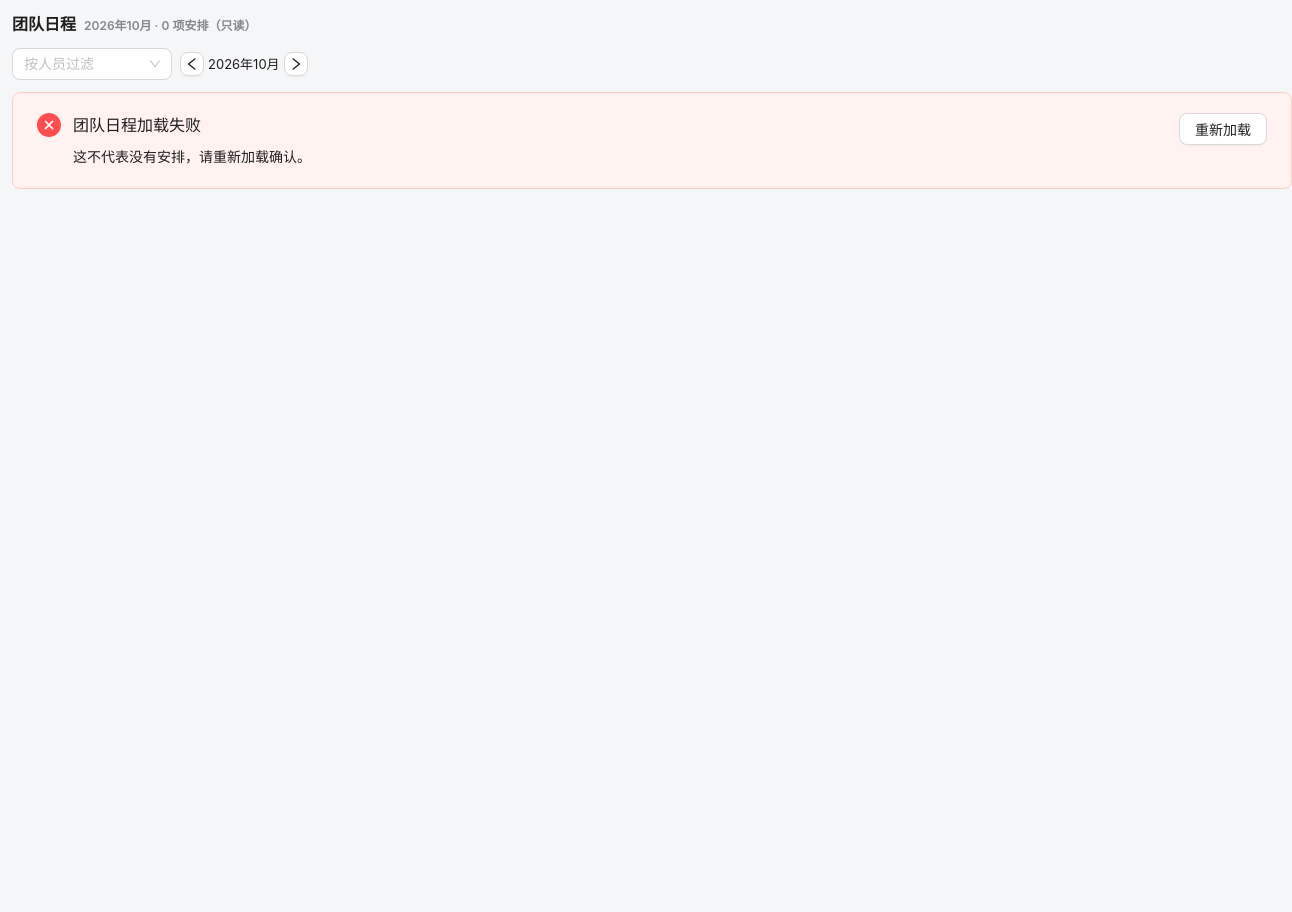
Test: shows a retryable failure instead of an empty schedule
The width and height of the screenshot is (1292, 912).
Check: the text "团队日程加载失败" is shown, box [73, 115, 201, 135]
Click the button "重新加载" at (1223, 129), box [1179, 113, 1267, 145]
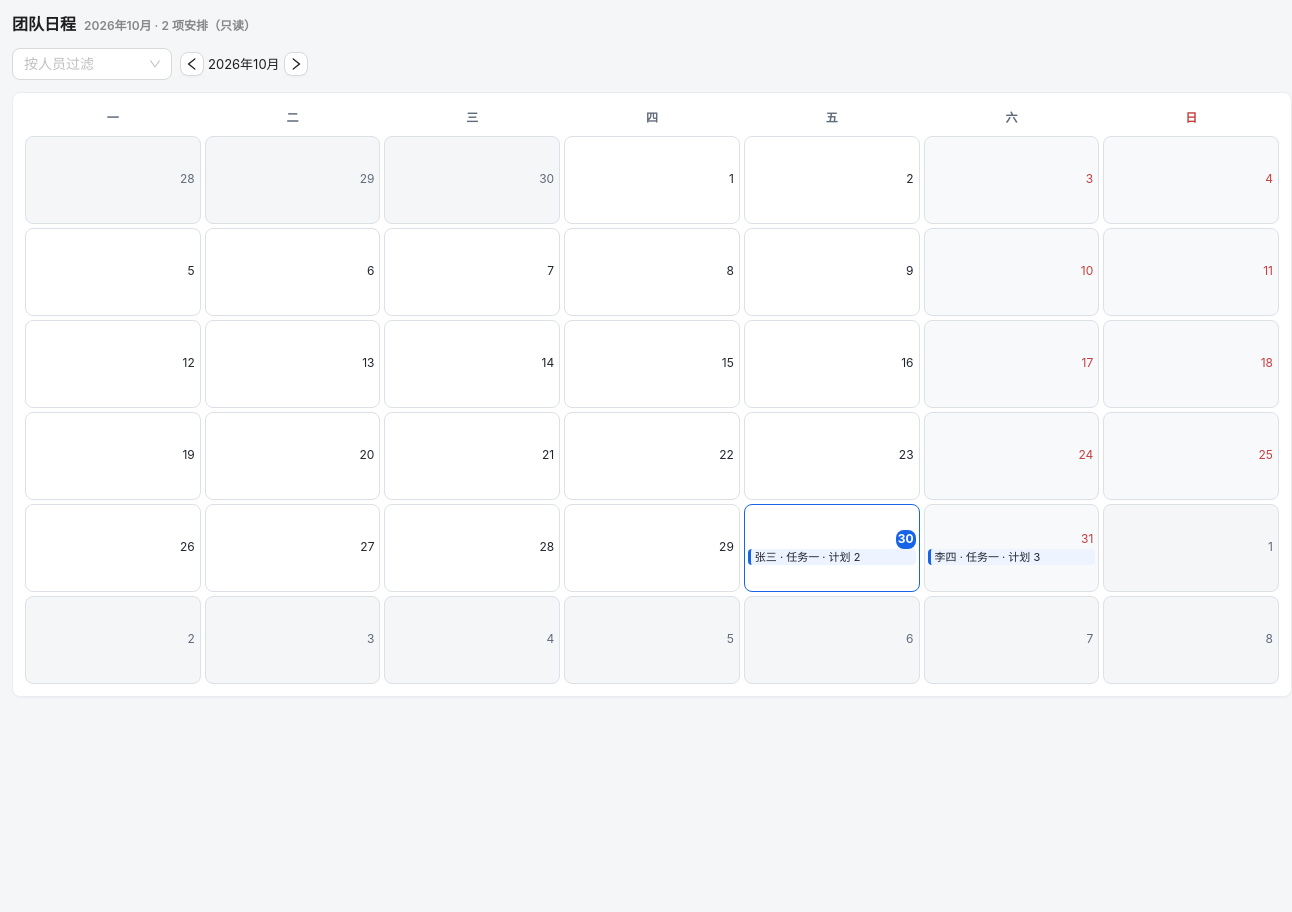
Check: the text "张三 · 任务一 · 计划 2" is shown, box [748, 549, 916, 565]
